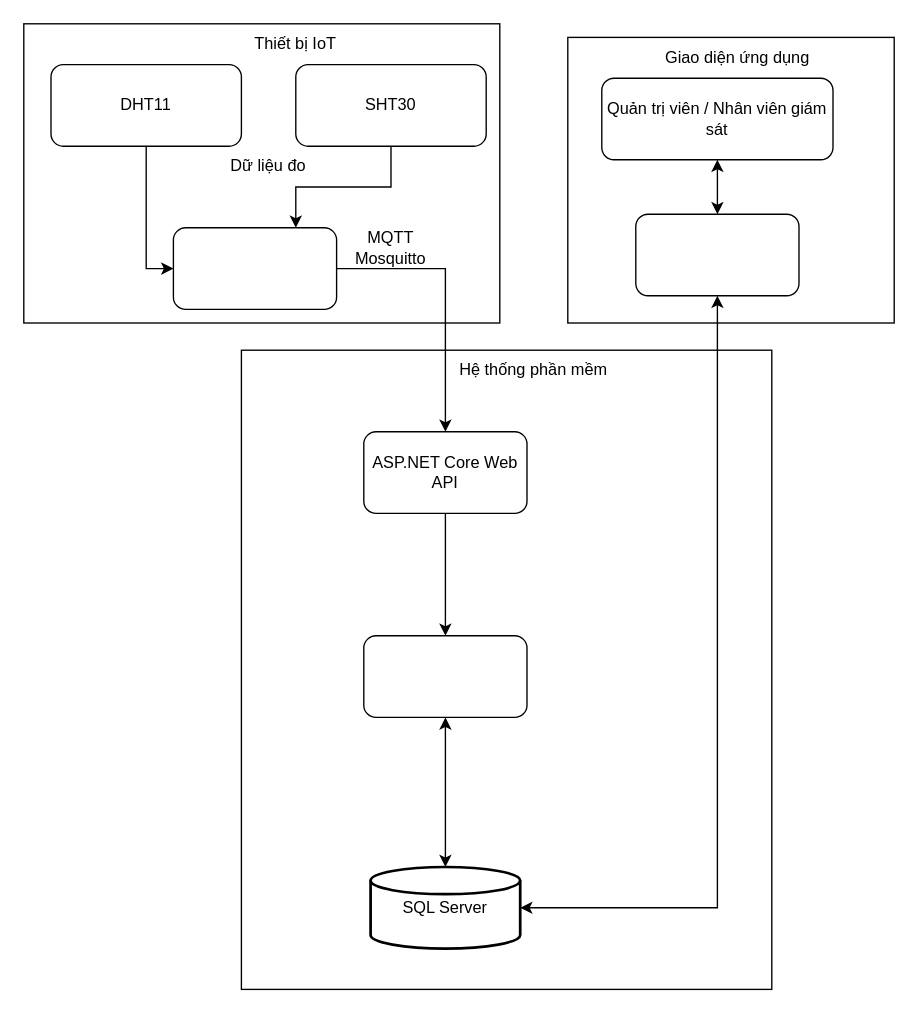
This 918x1013 diagram has some shape labels left out. The box of each missing label's shape, as (x1, y1, x2, y2) in pixels:
Chức năng giám sát và báo cáo: (634, 213, 799, 296)
ESP32 NodeMCU LuaNode32: (172, 226, 337, 309)
Kiểm tra dữ liệu và xử lý nghiệp vụ: (362, 634, 527, 717)
